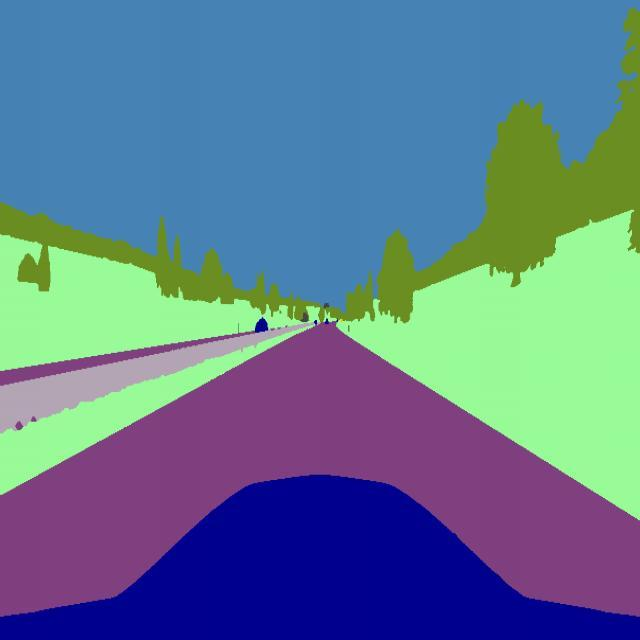safe: (248, 313, 272, 338)
